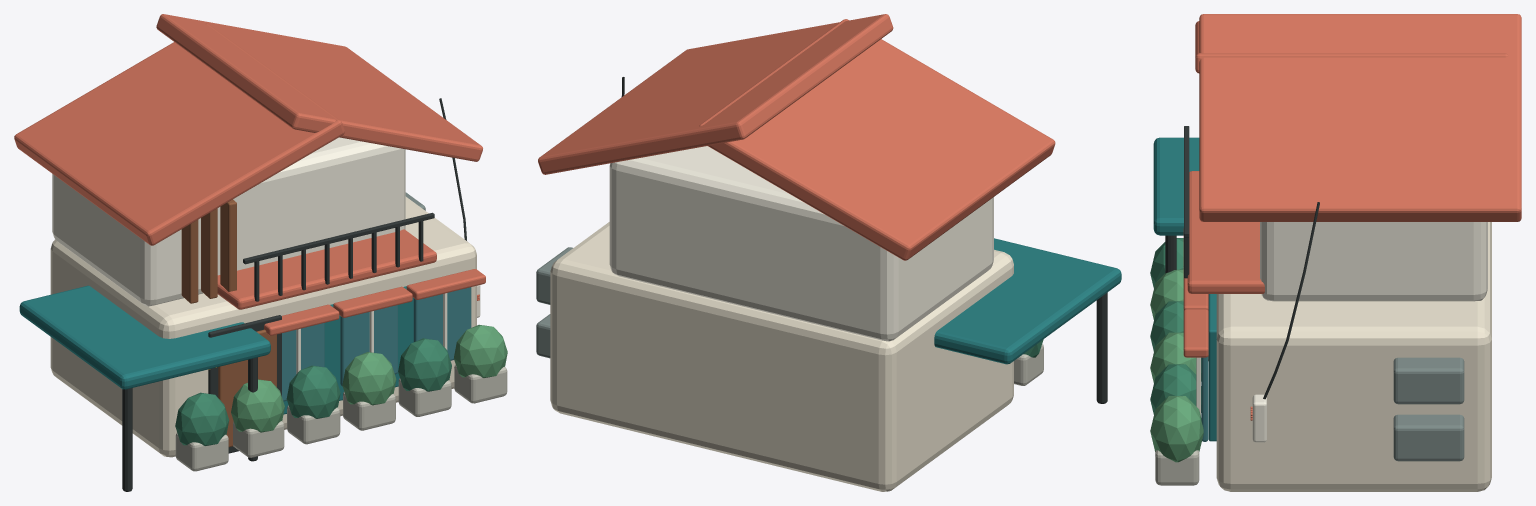
The model's file is landed-v2.glb.
The picture shows the model from 3 angles, left to right: view 1: azimuth 30°, elevation 25°; view 2: azimuth 150°, elevation 25°; view 3: azimuth 270°, elevation 25°; orthographic projection. The views are drawn at different scales.
Visible parts, largest first — view 1: Low roof left, Upper volume, High roof right, Ground plaster, Car porch canopy, Balcony slab, Living window.001, Living window.002, Planter shrub, Planter shrub.003, Planter shrub.002, Planter shrub.005 (+20 smaller); view 2: Ground plaster, Upper volume, Low roof left, High roof right, Car porch canopy, Porch post, Verge planter, Aircon condenser.001; view 3: High roof right, Ground plaster, Upper volume, Balcony slab, Aircon condenser.001, Aircon condenser, Car porch canopy, Planter shrub.005, Low roof left, Planter shrub.004, Recess shadow, Verge planter.005 (+11 smaller).
Boxes of the visible parts, bbox=[...] form: Low roof left: bbox=[14, 23, 344, 245]; Upper volume: bbox=[52, 137, 405, 306]; High roof right: bbox=[156, 14, 482, 161]; Ground plaster: bbox=[50, 196, 476, 457]; Car porch canopy: bbox=[19, 285, 270, 389]; Balcony slab: bbox=[217, 229, 436, 309]; Living window.001: bbox=[340, 305, 397, 386]; Living window.002: bbox=[413, 287, 471, 360]; Planter shrub: bbox=[175, 392, 229, 445]; Planter shrub.003: bbox=[342, 352, 396, 405]; Planter shrub.002: bbox=[286, 365, 340, 418]; Planter shrub.005: bbox=[454, 324, 507, 377]; Ground plaster: bbox=[550, 222, 1013, 491]; Upper volume: bbox=[609, 146, 993, 341]; Low roof left: bbox=[699, 19, 1055, 260]; High roof right: bbox=[538, 14, 893, 174]; Car porch canopy: bbox=[934, 238, 1121, 364]; Porch post: bbox=[1096, 292, 1107, 403]; Verge planter: bbox=[1014, 344, 1043, 385]; Aircon condenser.001: bbox=[536, 247, 572, 304]; High roof right: bbox=[1199, 14, 1521, 221]; Ground plaster: bbox=[1216, 222, 1491, 491]; Upper volume: bbox=[1260, 222, 1487, 301]; Balcony slab: bbox=[1187, 171, 1264, 293]; Aircon condenser.001: bbox=[1393, 357, 1464, 404]; Aircon condenser: bbox=[1393, 414, 1464, 461]; Car porch canopy: bbox=[1153, 137, 1199, 235]; Planter shrub.005: bbox=[1150, 396, 1203, 462]; Low roof left: bbox=[1195, 21, 1508, 73]; Planter shrub.004: bbox=[1150, 364, 1201, 414]; Recess shadow: bbox=[1208, 294, 1216, 441]; Verge planter.005: bbox=[1155, 450, 1199, 485].
Size of the model in its own units: 6.95 by 5.27 by 4.72.
1 material, 1 textured.
